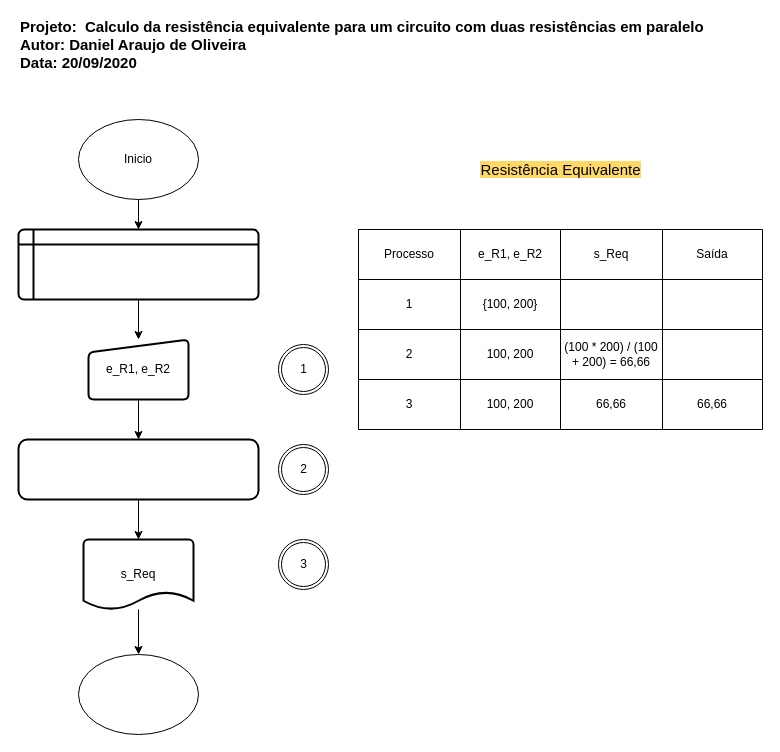
The diagram is 780 pixels wide and 752 high, and some of its shapes have lost their labels. Each missing label, with the box of its shape:
e_R1, e_R2, s_Req: (17, 228, 259, 300)
Fim: (78, 654, 198, 734)
s_Req = (R1 * R2) / (R1 + R2): (17, 438, 259, 500)
